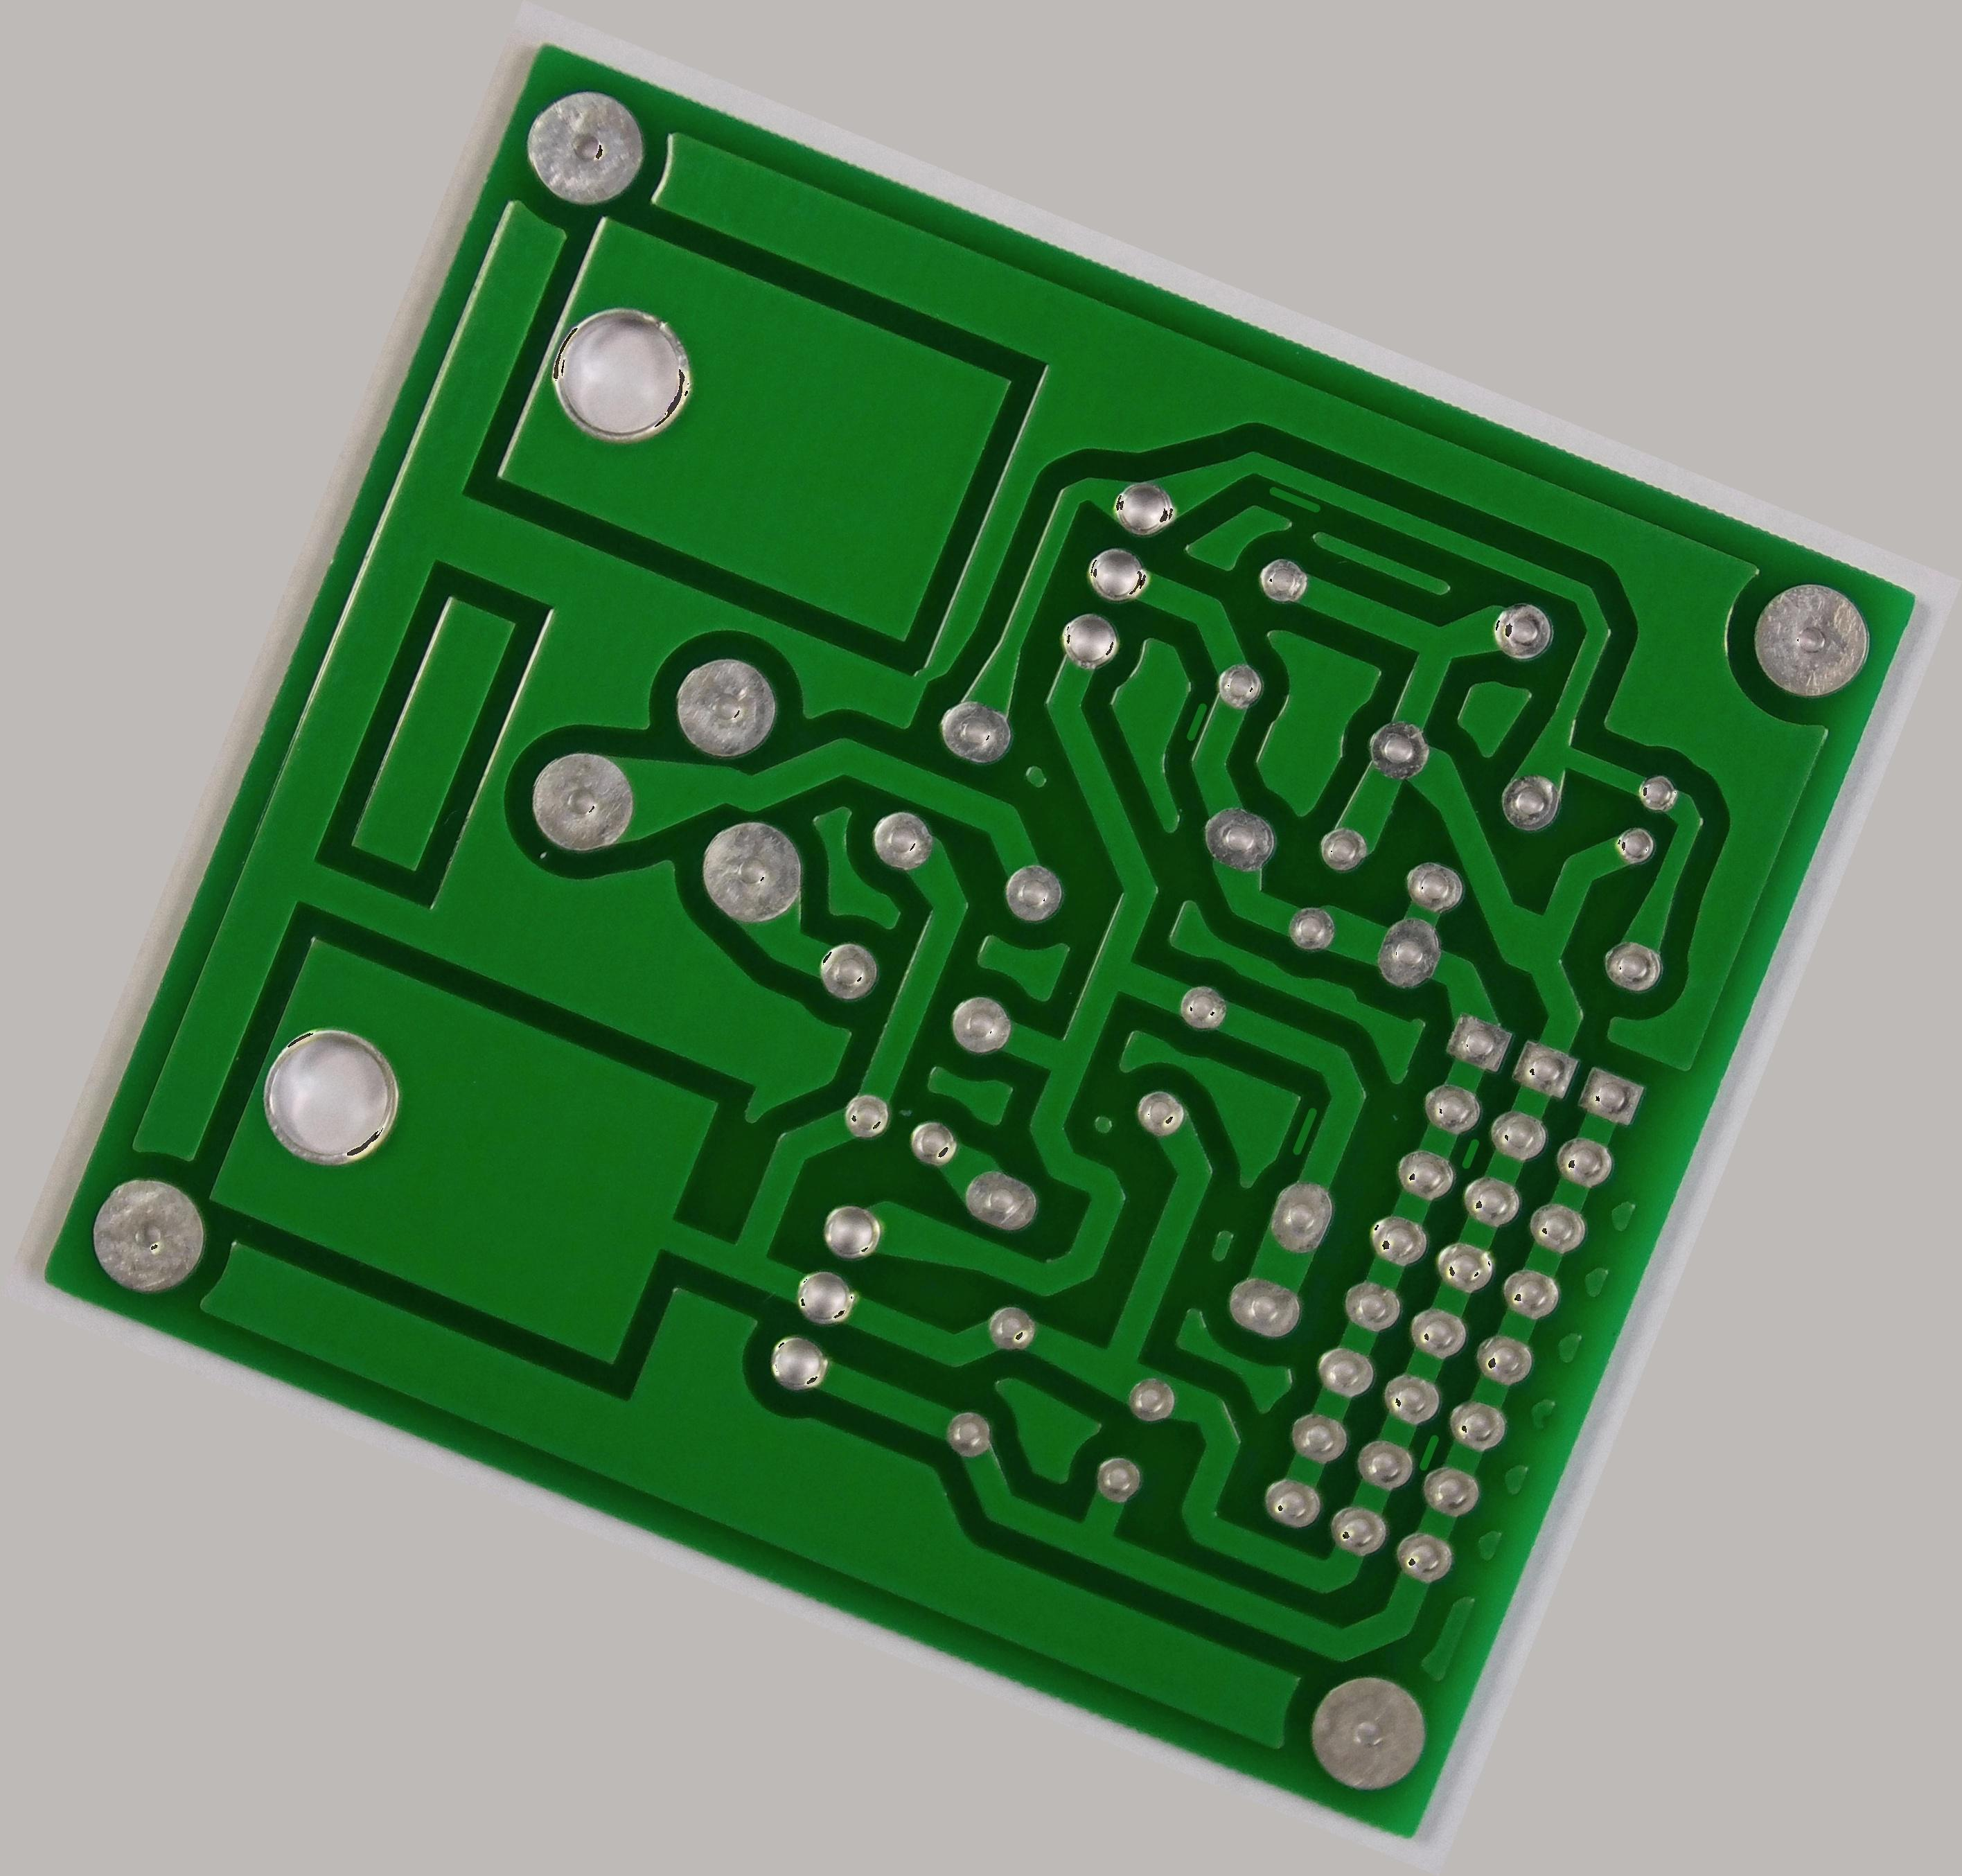spurious_copper: (1251, 471, 1333, 531), (1279, 1098, 1330, 1165), (1445, 1123, 1498, 1186), (1174, 687, 1223, 753), (1405, 1424, 1450, 1482)
